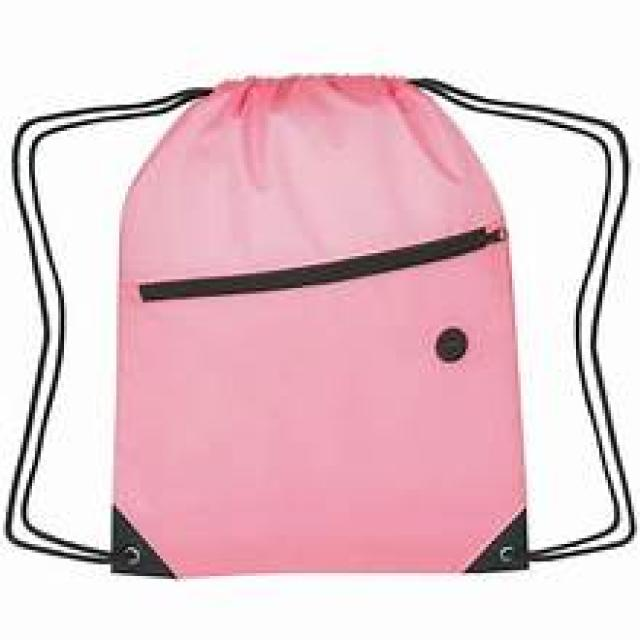backpack: (4, 71, 635, 580)
